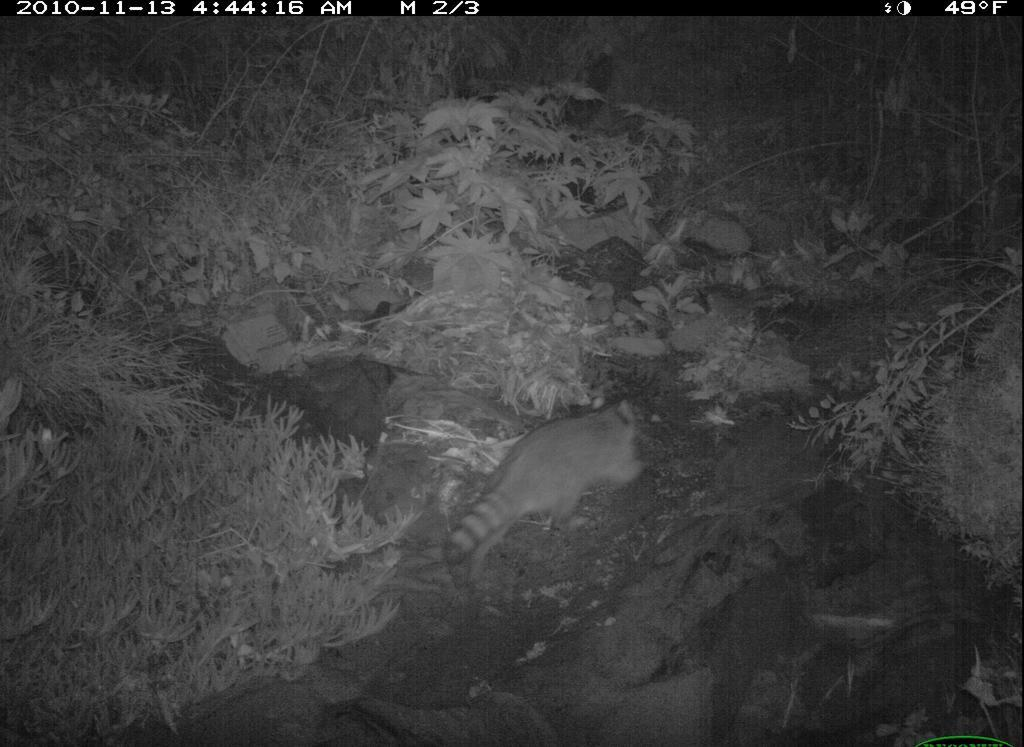raccoon: (437, 390, 669, 579)
